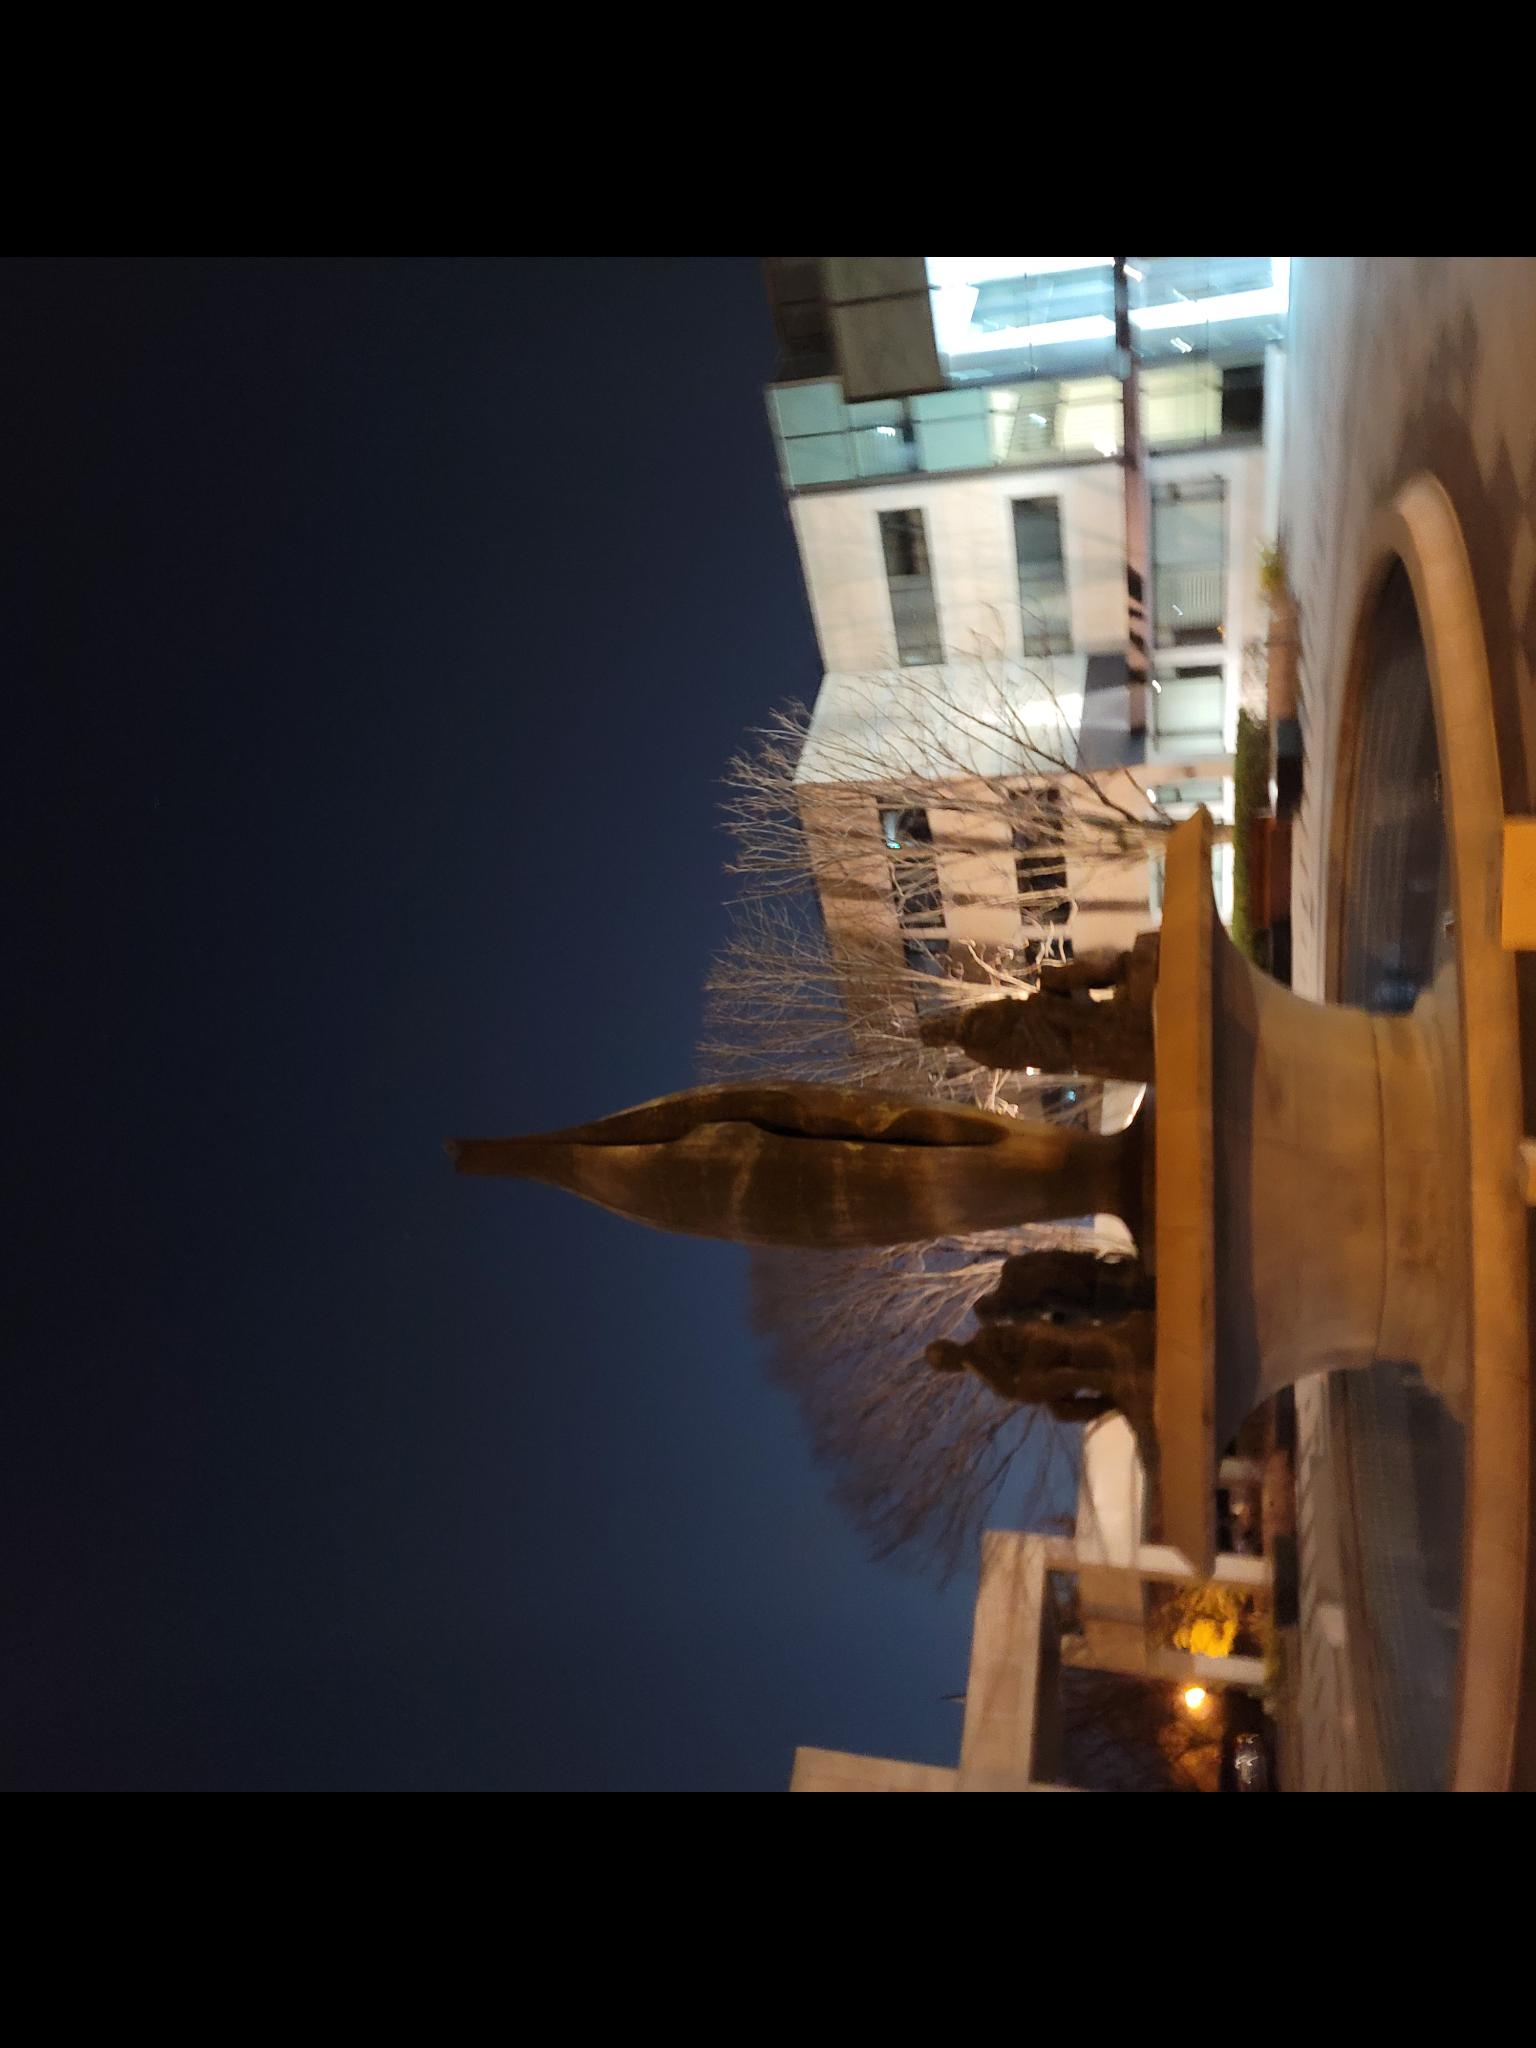Box: (1465, 798, 1536, 966), (1502, 1114, 1536, 1214)
